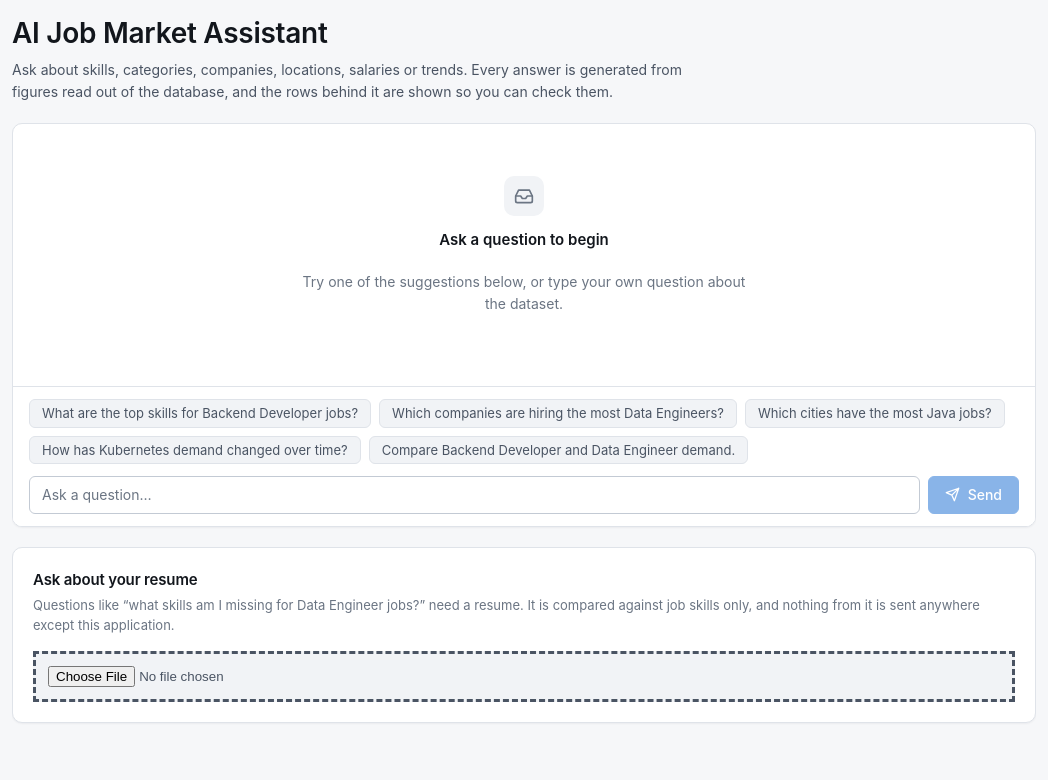
Test case: AiAssistant › says plainly when an answer is not backed by data
Type "cobol trend" into the field named "Your question".
click(474, 495); type("cobol trend")  # box top-left (29, 476), bottom-right (920, 514)
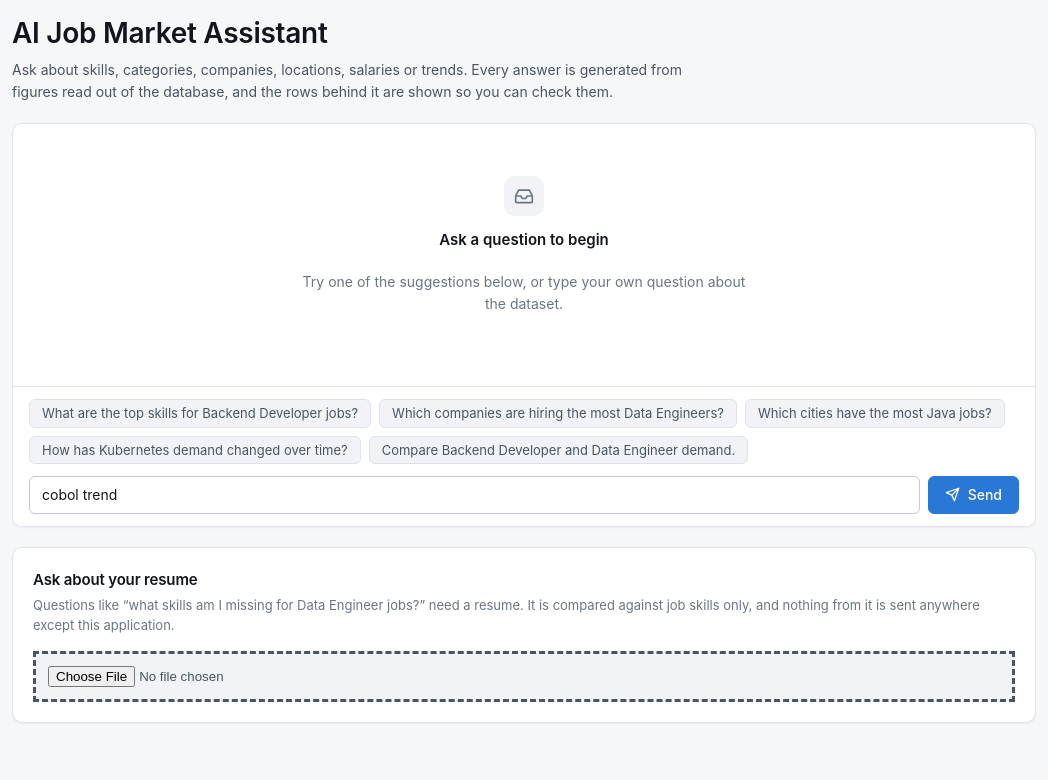
Click the button "Send".
click(973, 495)  # box top-left (928, 476), bottom-right (1019, 514)
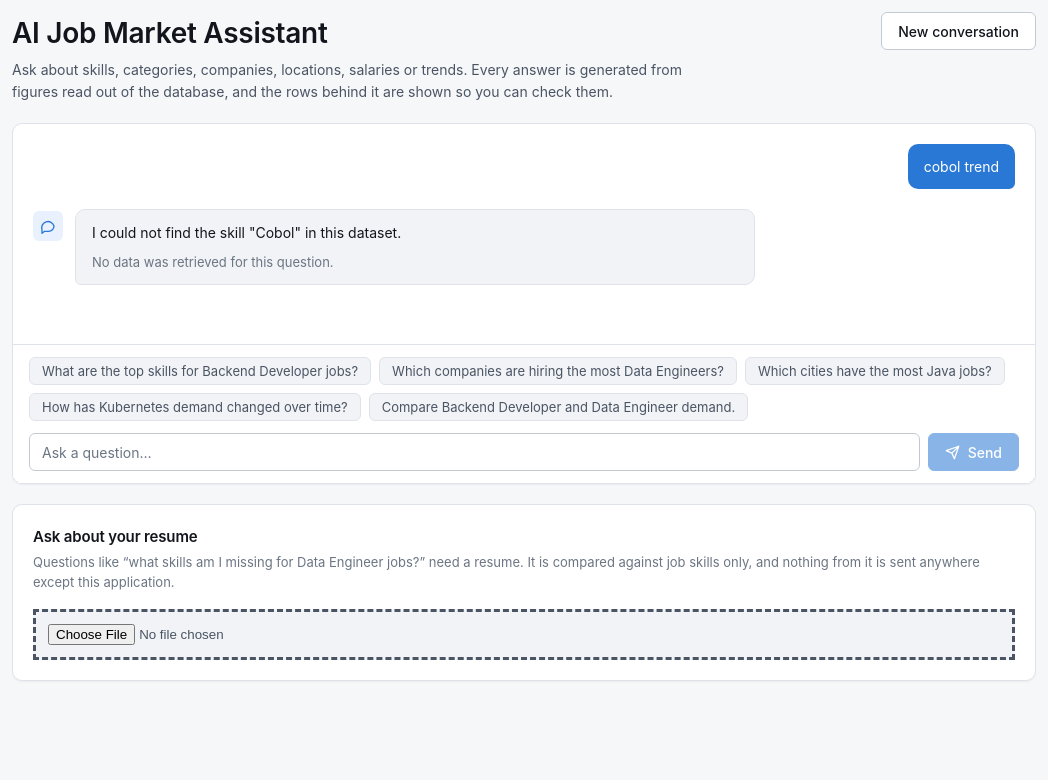
Expected: the text "I could not find the skill \"Cobol\" in this dataset." is shown, top-left (92, 224), bottom-right (401, 242)
Expected: the text "No data was retrieved for this question." is shown, top-left (92, 254), bottom-right (334, 270)
